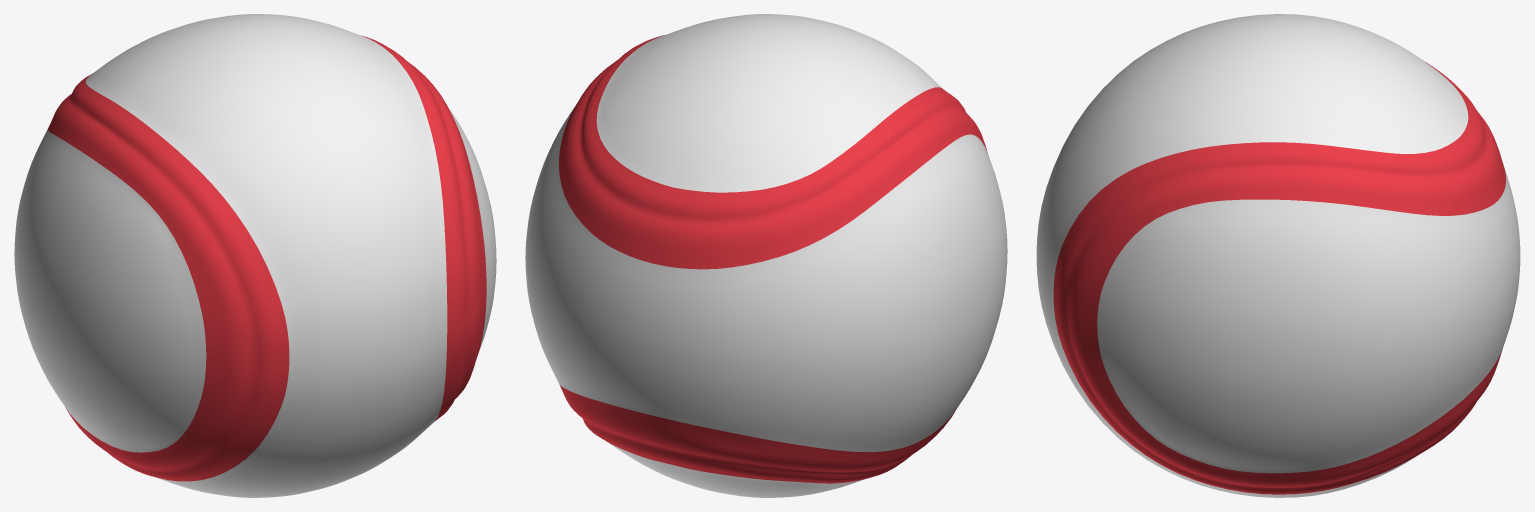
File: Baseball.fbx
3 views of the same model, side by side, from view 1: azimuth 30°, elevation 25°; view 2: azimuth 150°, elevation 25°; view 3: azimuth 270°, elevation 25° (orthographic).
Parts seen in each view (by area): view 1: Baseball; view 2: Baseball; view 3: Baseball.
Boxes of the visible parts, x1,y1,x2,y2 form: Baseball: (14, 14, 496, 497); Baseball: (525, 14, 1007, 497); Baseball: (1036, 14, 1520, 497).
Bounding box in the file's own units: 0.1919 × 0.1966 × 0.1962.
1 material, 1 textured.
